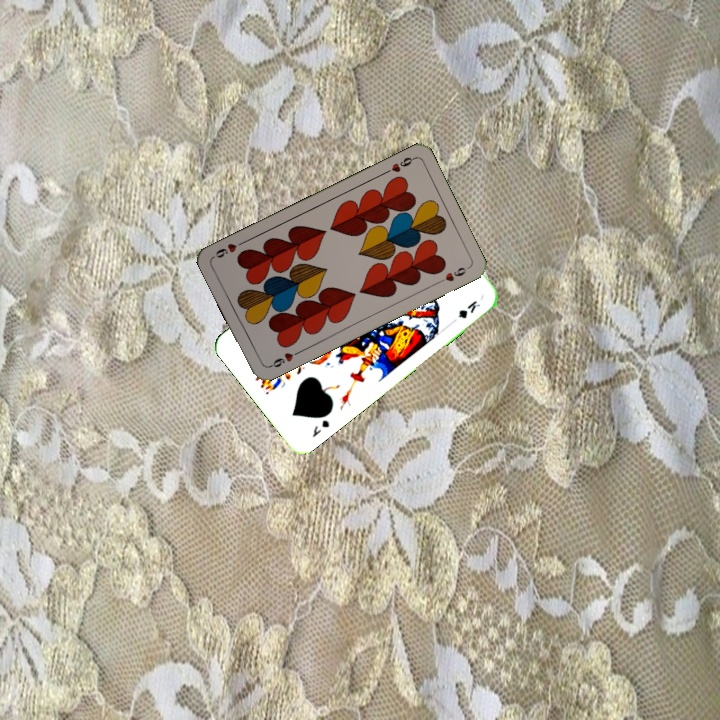GK: (308, 415, 332, 440)
H9: (379, 153, 418, 177), (264, 347, 303, 370)
